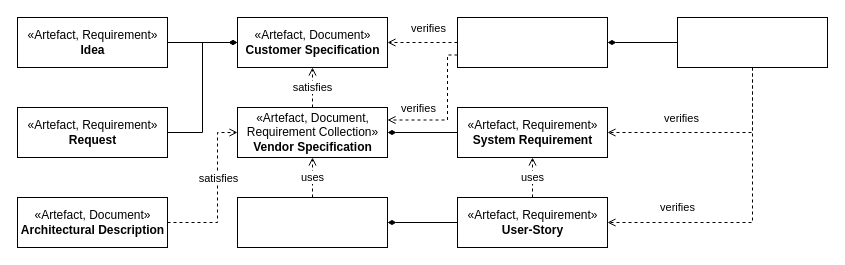
Some shapes in this 845 by 265 pixel diagram are drawn without their labels. The box of each missing label's shape, as (x1, y1, x2, y2) in pixels:
«Artefact, Document» Test Specification: (456, 16, 608, 68)
«Artefact,, Requirement Collection» Product Backlog: (236, 196, 388, 248)
«Artefact» Test Case: (676, 16, 828, 68)
